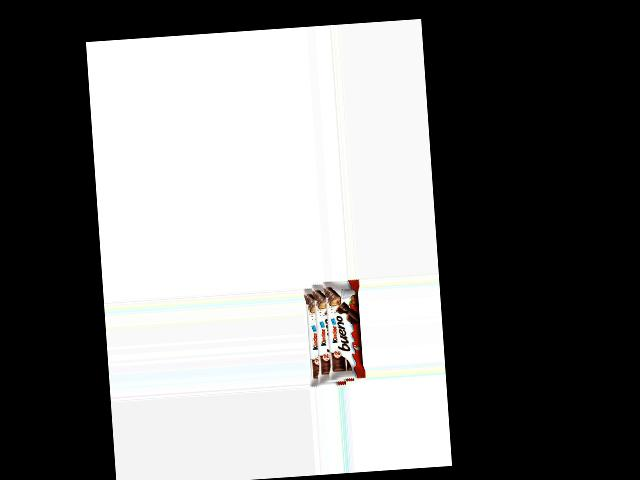chocolate: (303, 281, 366, 386)
